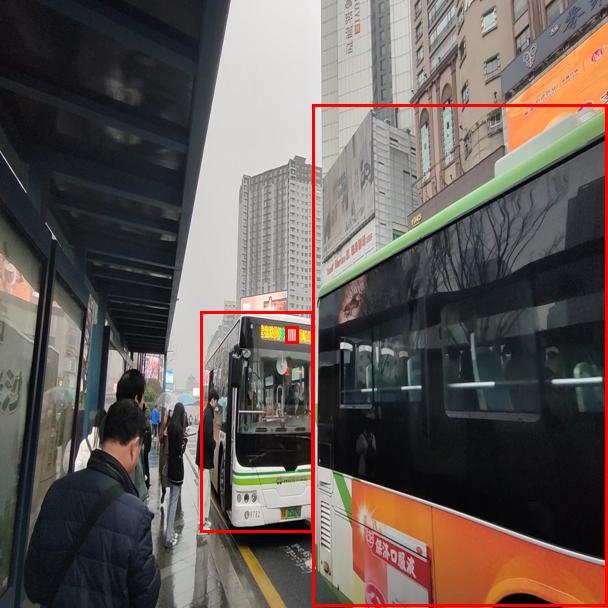bus: (312, 104, 607, 606), (200, 311, 313, 532)
screen: (285, 326, 298, 343)
